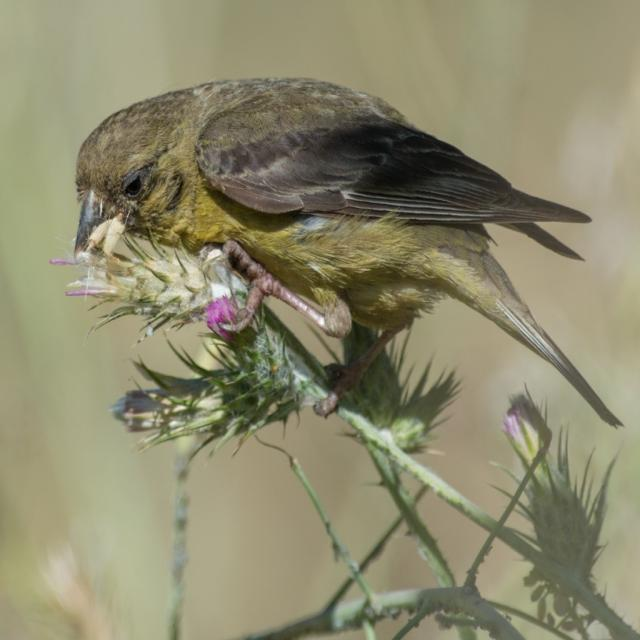bird: (54, 70, 632, 439)
